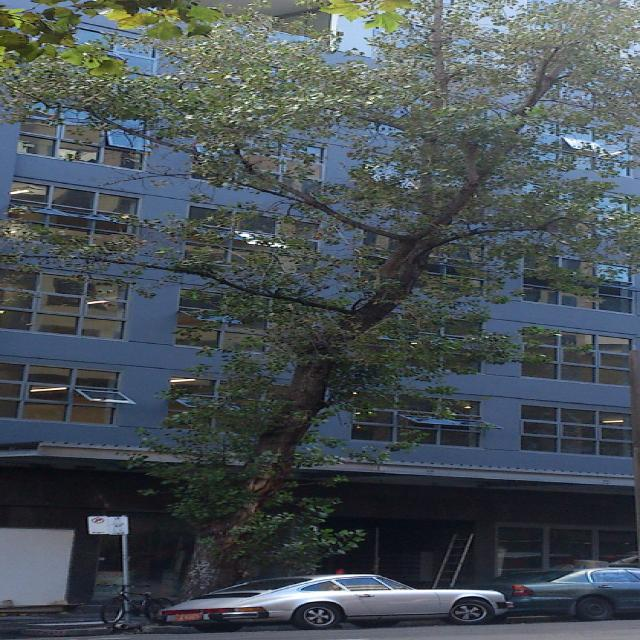car: (145, 569, 509, 630)
